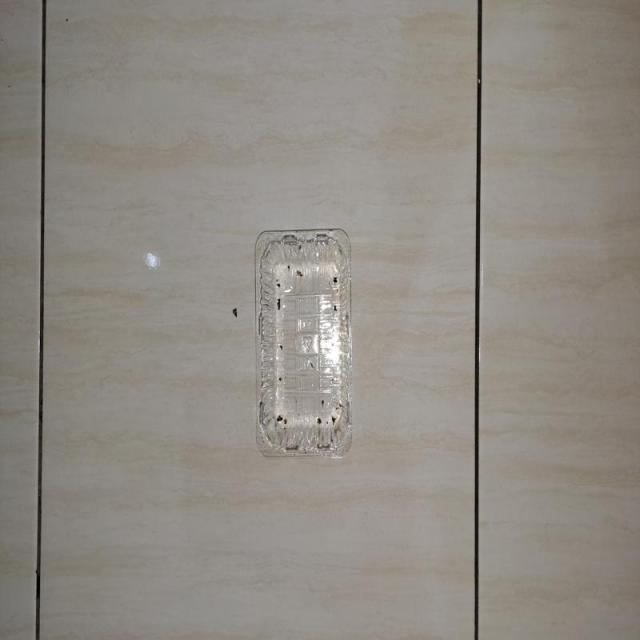Anorganik: (245, 204, 360, 468)
